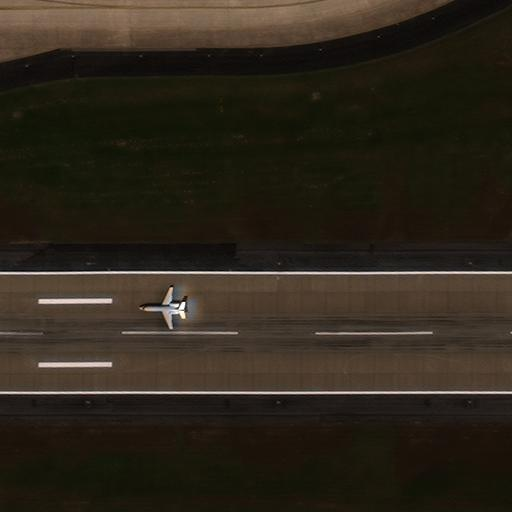Medium Civil Transport: (138, 287, 188, 329)
